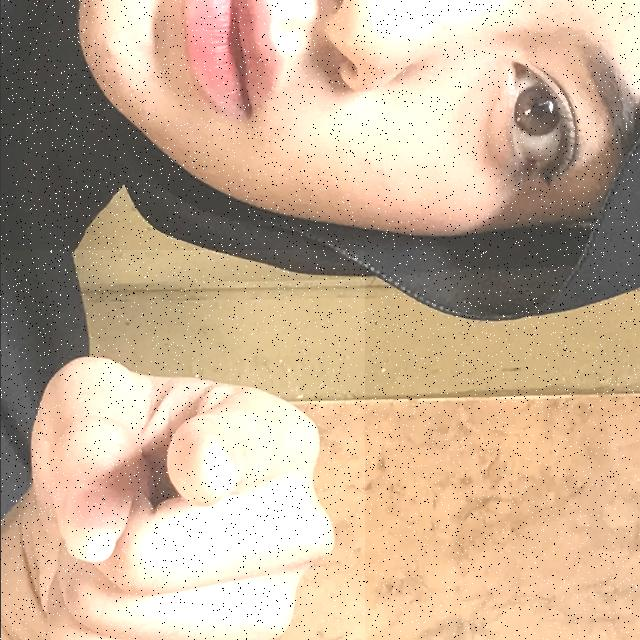kamu: (0, 250, 364, 640)
